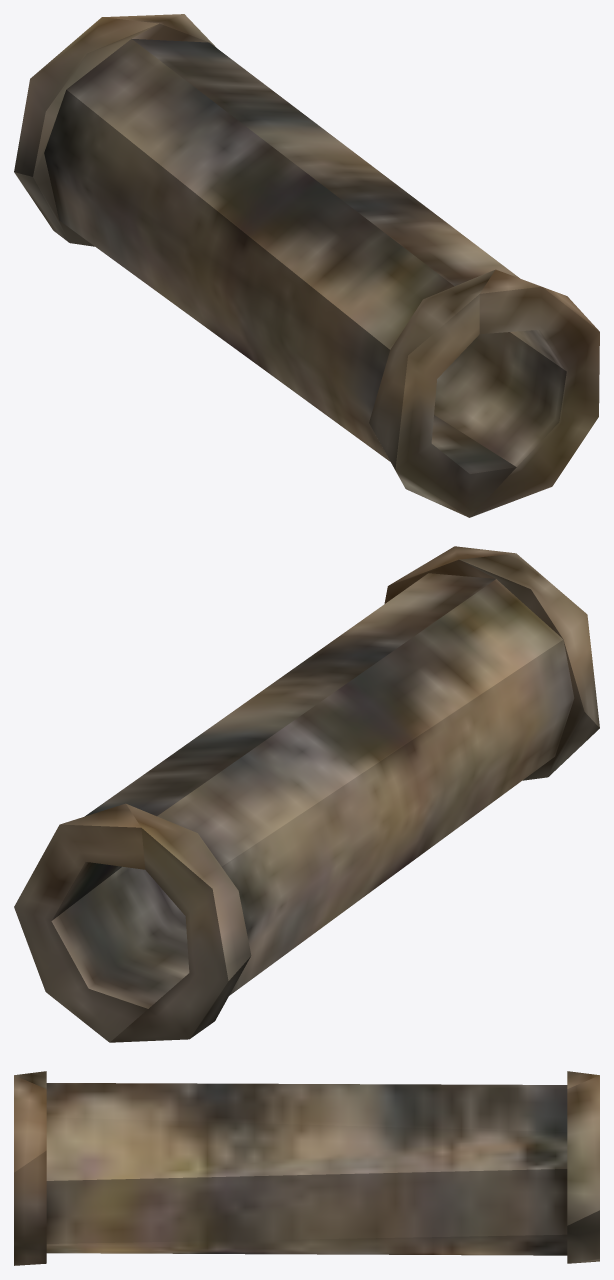
File: pipe-straight-medium.lod1.glb
3 renders of one model, top to bottom at view 1: azimuth 30°, elevation 25°; view 2: azimuth 150°, elevation 25°; view 3: azimuth 270°, elevation 25°, orthographic. The views are drawn at different scales.
Parts seen in each view (by area): view 1: pipe-straight-medium; view 2: pipe-straight-medium; view 3: pipe-straight-medium.
Boxes of the visible parts, bbox=[...] form: pipe-straight-medium: bbox=[14, 14, 599, 517]; pipe-straight-medium: bbox=[14, 546, 599, 1042]; pipe-straight-medium: bbox=[14, 1071, 599, 1265].
Bounding box in the file's own units: 0.2877 × 0.2829 × 0.8625.
1 material, 1 textured.
